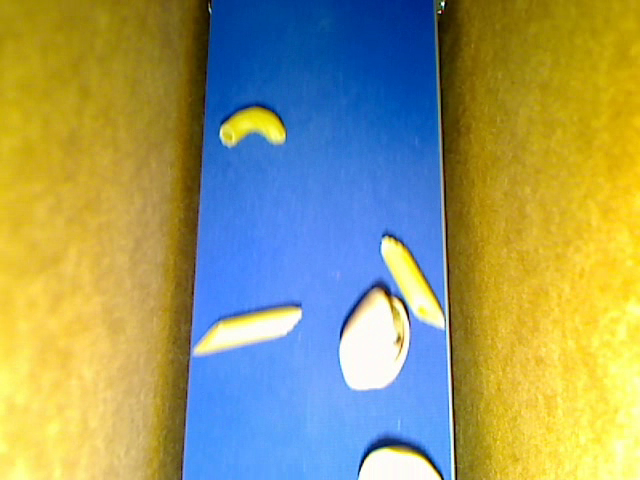elbow: (219, 106, 287, 147)
penne: (378, 234, 446, 329), (192, 305, 302, 356)
